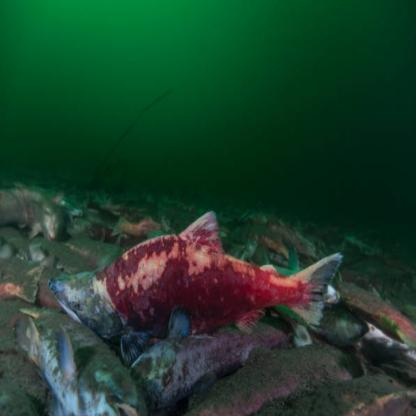sockeye: (62, 224, 347, 342)
